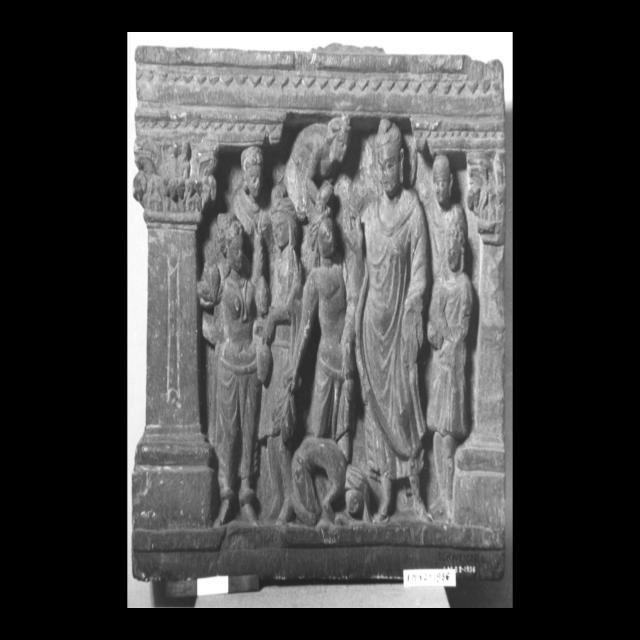buddha-standing: (357, 118, 429, 532)
